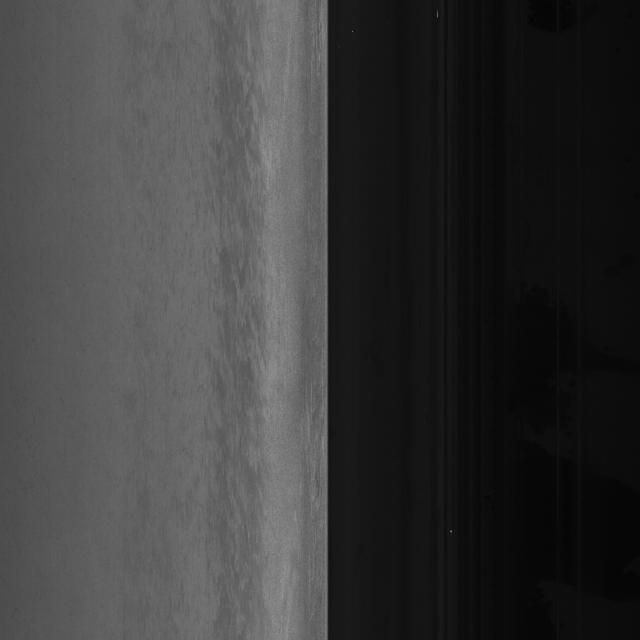inclusion: (208, 225, 280, 373)
